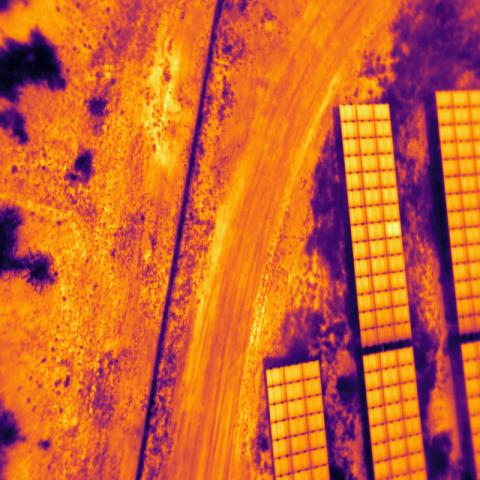fault: (386, 220, 401, 240)
